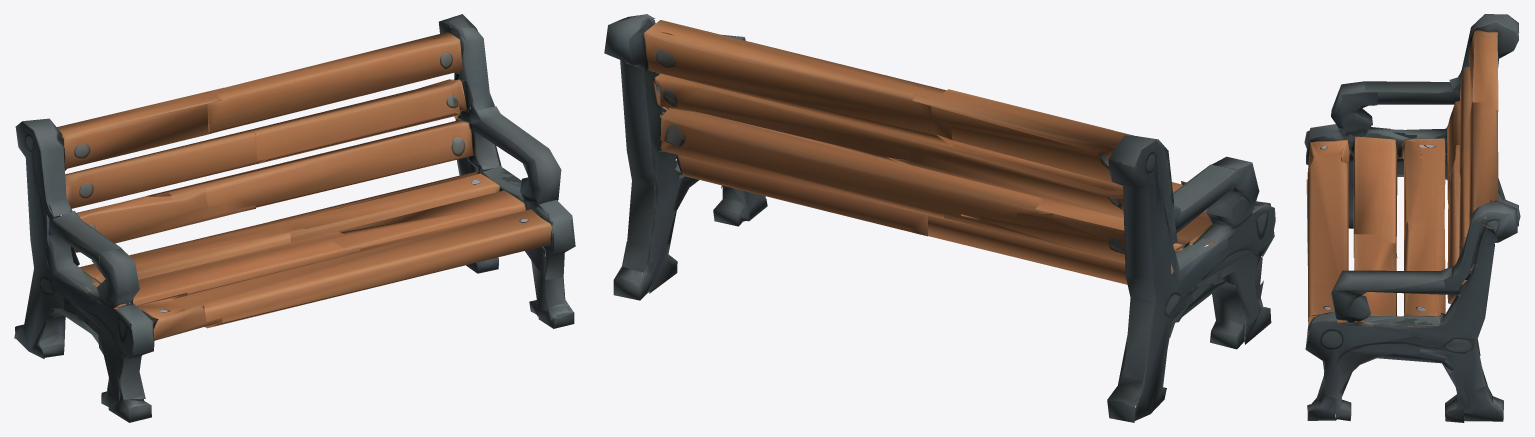
The picture shows the model from 3 angles, left to right: view 1: azimuth 30°, elevation 25°; view 2: azimuth 150°, elevation 25°; view 3: azimuth 270°, elevation 25°; orthographic projection. The views are drawn at different scales.
Visible parts, largest first — view 1: quad; view 2: quad; view 3: quad.
Boxes of the visible parts, x1=… form: quad: x1=14, y1=14, x2=575, y2=422; quad: x1=604, y1=14, x2=1275, y2=422; quad: x1=1304, y1=14, x2=1520, y2=422.
Bounding box in the file's own units: 220 × 110 × 99.98.
1 material, 1 textured.
